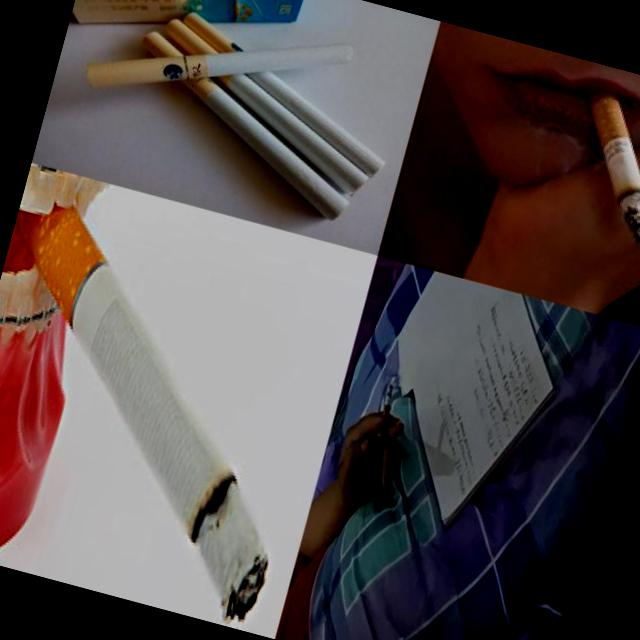smoke: (0, 202, 345, 631), (109, 28, 378, 223), (134, 17, 396, 200), (155, 9, 410, 180), (79, 0, 356, 152), (548, 69, 640, 250), (374, 383, 396, 438)
